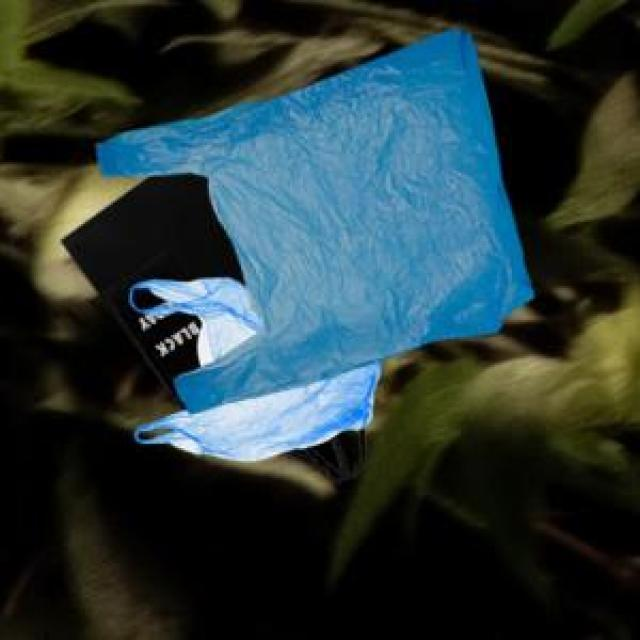paper: (58, 169, 363, 478)
